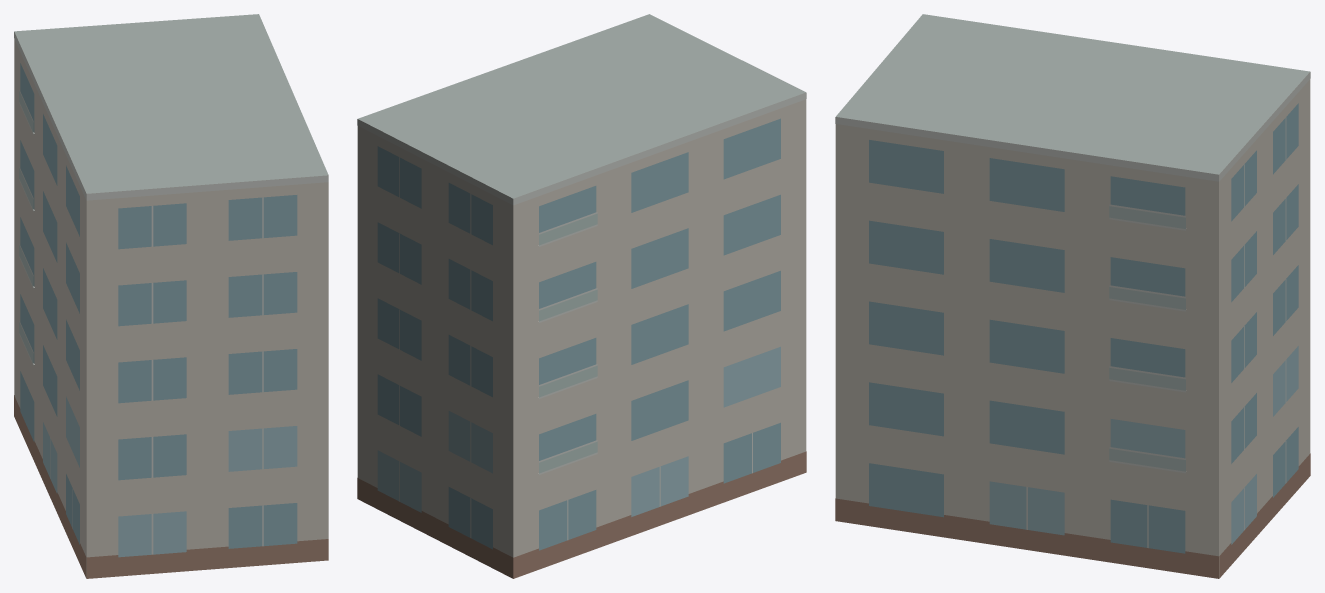
File: survey-upis-32885150.glb
The picture shows the model from 3 angles, left to right: view 1: azimuth 30°, elevation 25°; view 2: azimuth 150°, elevation 25°; view 3: azimuth 270°, elevation 25°; orthographic projection. The views are drawn at different scales.
Parts seen in each view (by area): view 1: survey-upis-32885150.tmp; view 2: survey-upis-32885150.tmp; view 3: survey-upis-32885150.tmp.
Part boxes in pixels (x1,y1,x2,y2): survey-upis-32885150.tmp: [14, 14, 328, 578]; survey-upis-32885150.tmp: [357, 14, 806, 578]; survey-upis-32885150.tmp: [835, 14, 1310, 578].
Bounding box in the file's own units: 11.77 × 13.8 × 14.7.
